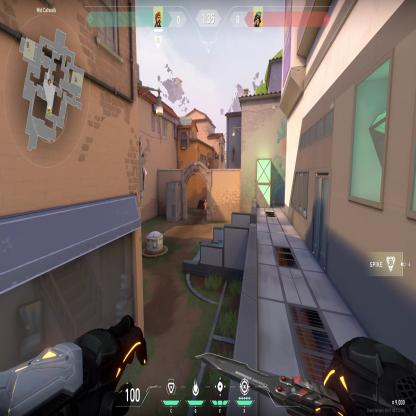enemy: (203, 199, 207, 220)
